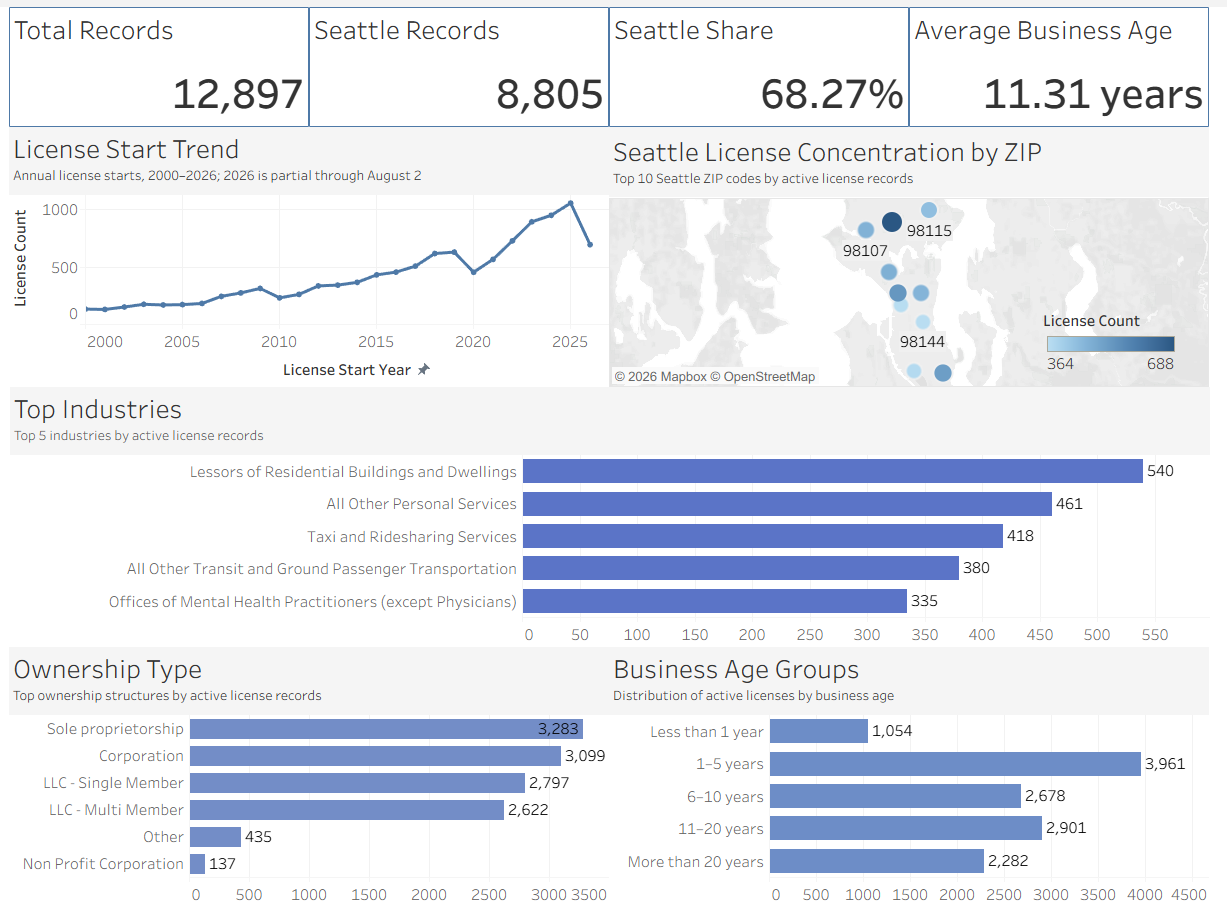

The page's visual inventory and layout, read from the dashboard file:
{"tool":"tableau","page":{"name":"Seattle Business License Dashboard","canvas":[1200,900],"ordinal":0},"visuals":[{"type":"worksheet","title":"Total License Records","mark":"Automatic","box":[0,0,300,120]},{"type":"worksheet","title":"Seattle Address Records","mark":"Automatic","box":[300,0,300,120]},{"type":"worksheet","title":"Seattle Address Share","mark":"Automatic","box":[600,0,300,120]},{"type":"worksheet","title":"Average Business Age","mark":"Automatic","box":[900,0,300,120]},{"type":"worksheet","title":"License Start Trend","mark":"Line","rows":["business_licenses_analysis.csv_14BA563B0DFE457CAE7C1FBA01C1B"],"cols":["license_start_year"],"box":[0,120,600,260]},{"type":"worksheet","title":"Seattle ZIP Map","mark":"Automatic","box":[600,120,600,260]},{"type":"legend","title":"Seattle ZIP Map","param":"[federated.0hhepyz0lko8qf1fszf2q0y4lelc].[__tableau_internal_object_id__].[cnt:b","box":[1034,303,136,63]},{"type":"worksheet","title":"Top Industries","mark":"Automatic","rows":["naics_description"],"cols":["business_licenses_analysis.csv_14BA563B0DFE457CAE7C1FBA01C1B"],"box":[1,380,1200,260]},{"type":"worksheet","title":"Ownership Type","mark":"Automatic","rows":["ownership_type"],"cols":["business_licenses_analysis.csv_14BA563B0DFE457CAE7C1FBA01C1B"],"box":[0,640,600,260]},{"type":"worksheet","title":"Business Age Groups","mark":"Automatic","rows":["business_age_group"],"cols":["business_licenses_analysis.csv_14BA563B0DFE457CAE7C1FBA01C1B"],"box":[600,640,600,260]}]}

Visuals, with their boxes in screenshot pixels (x1, y1, x2, y2), scaled from the page's 1200x900 canvas onto the 1227x905 screenshot:
"Total License Records" worksheet: left=0, top=0, right=307, bottom=121
"Seattle Address Records" worksheet: left=307, top=0, right=614, bottom=121
"Seattle Address Share" worksheet: left=614, top=0, right=920, bottom=121
"Average Business Age" worksheet: left=920, top=0, right=1226, bottom=121
"License Start Trend" worksheet (Line marks): left=0, top=121, right=614, bottom=382
"Seattle ZIP Map" worksheet: left=614, top=121, right=1226, bottom=382
"Seattle ZIP Map" legend: left=1057, top=305, right=1196, bottom=368
"Top Industries" worksheet: left=1, top=382, right=1226, bottom=644
"Ownership Type" worksheet: left=0, top=644, right=614, bottom=904
"Business Age Groups" worksheet: left=614, top=644, right=1226, bottom=904
